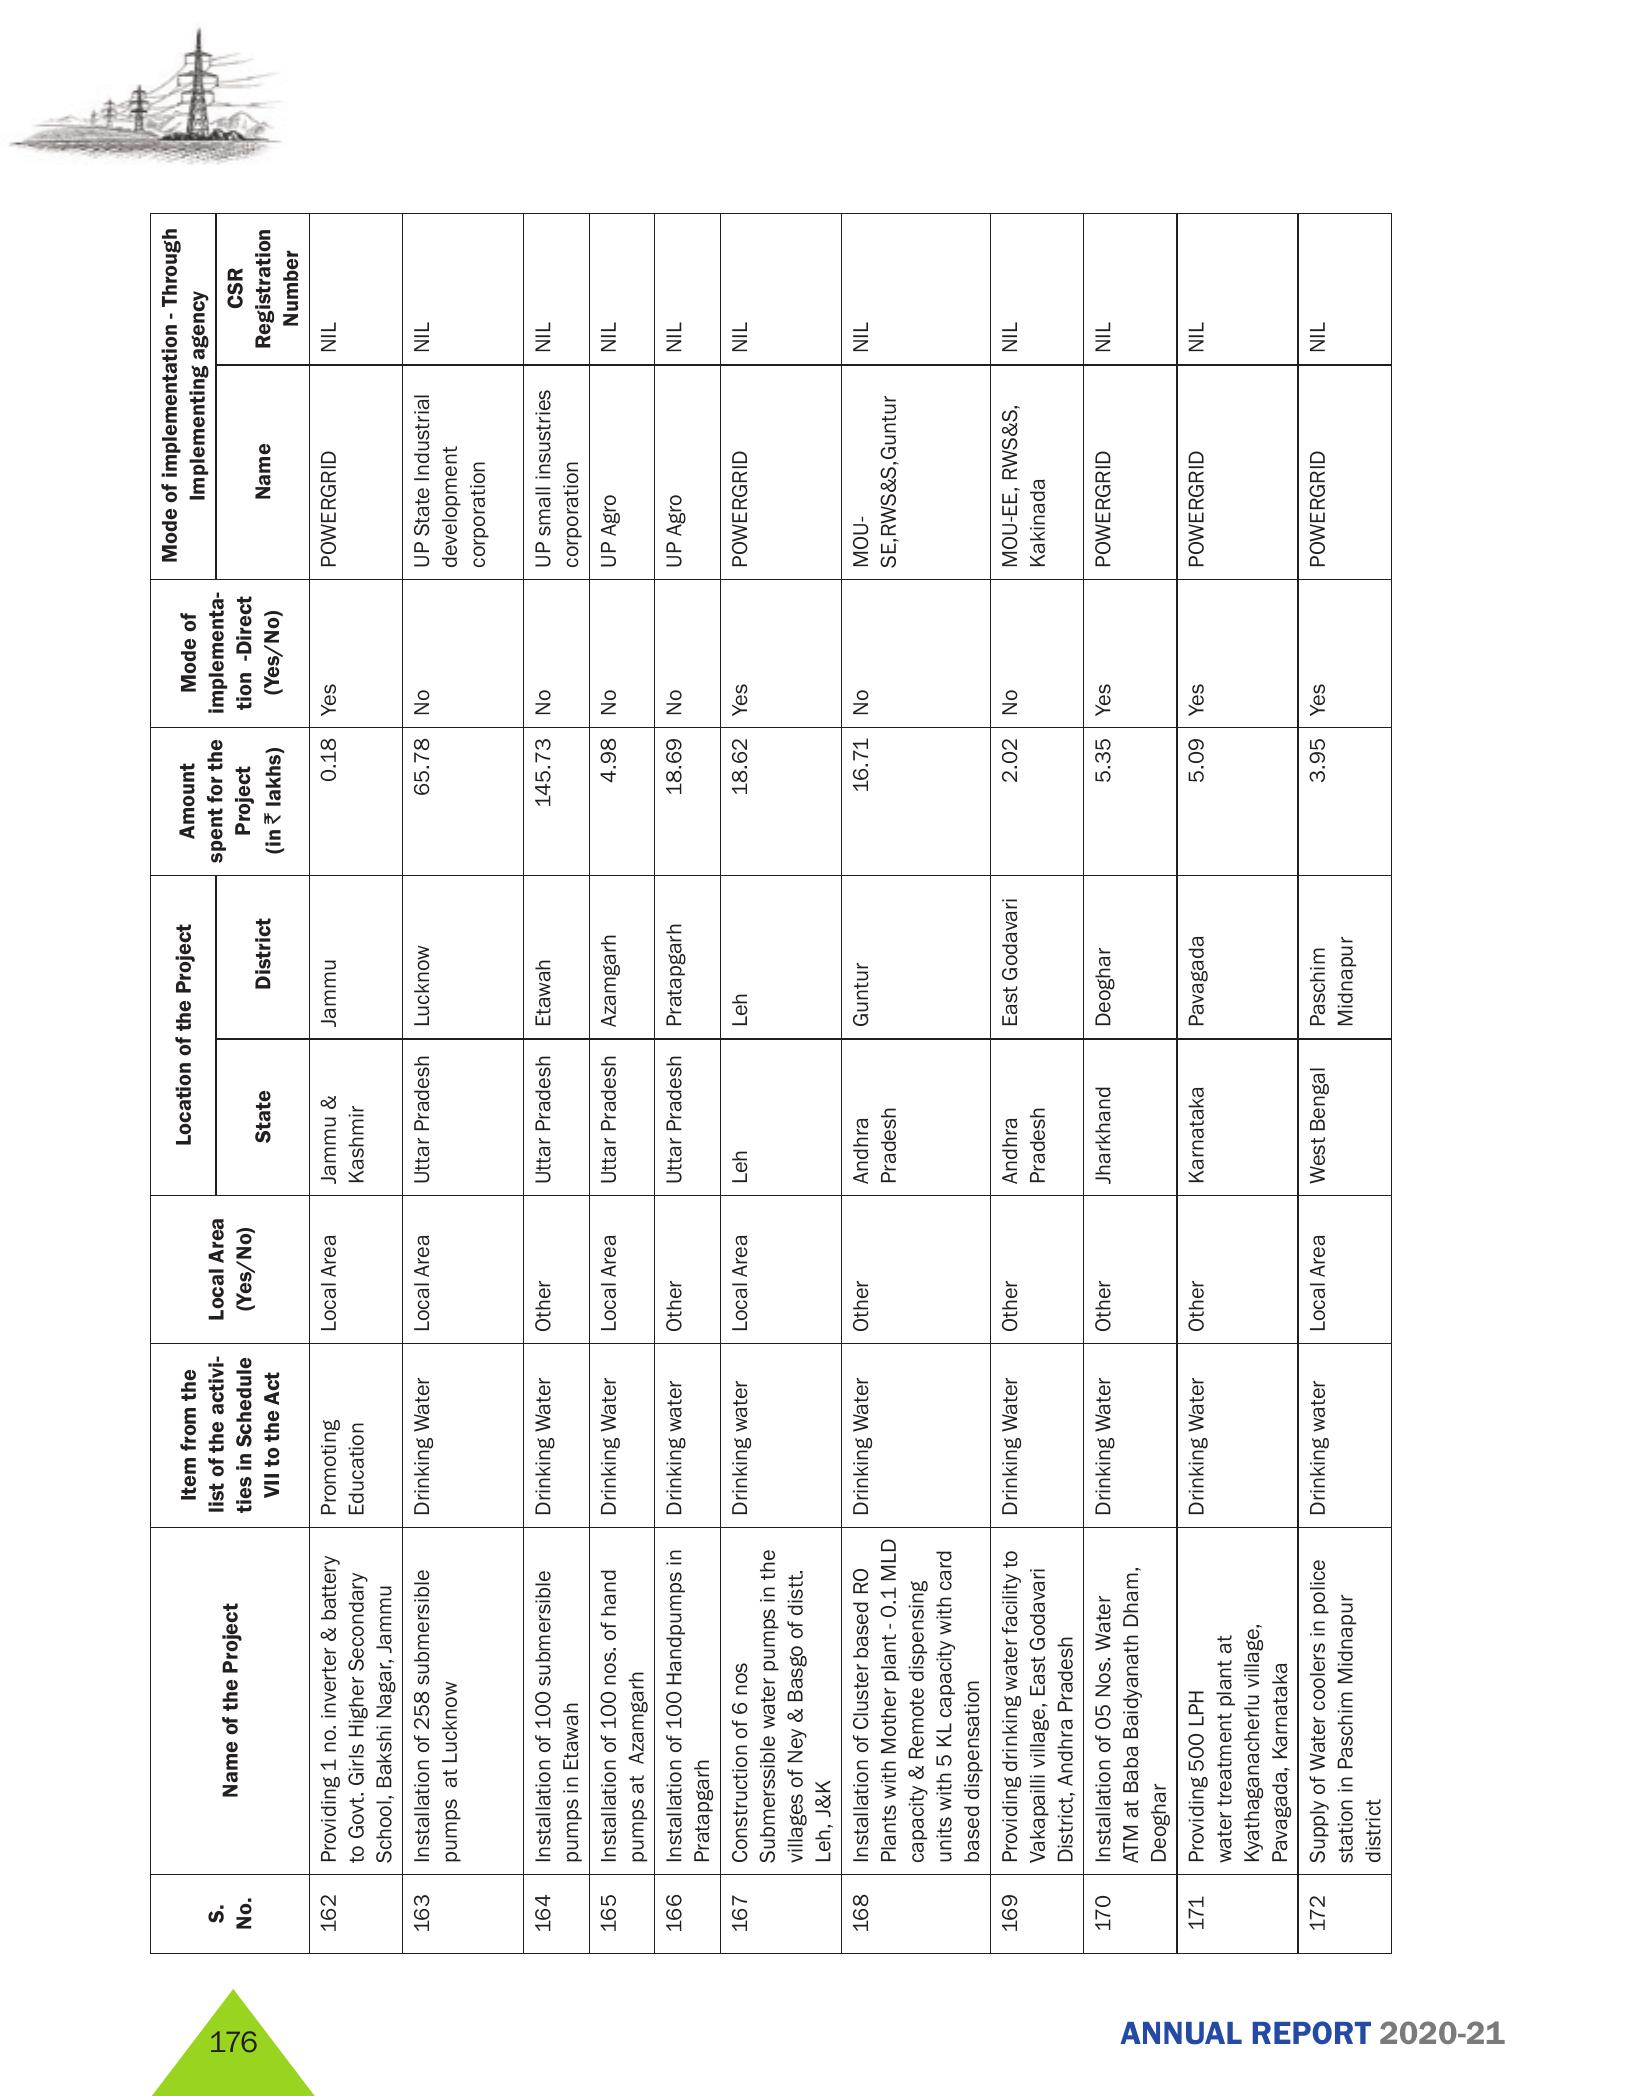Footer: (0, 1965, 1650, 2096)
Header: (0, 0, 1650, 184)
Table: (126, 208, 1417, 1956)
